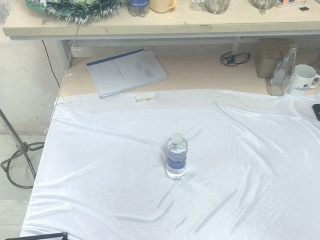bottle: (267, 45, 298, 97), (165, 133, 188, 181), (128, 1, 151, 17)
cup: (287, 64, 320, 97), (204, 1, 231, 15), (149, 1, 178, 13)
